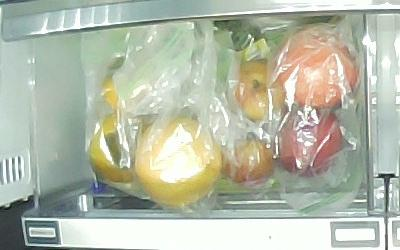apple_vinyl: (277, 24, 358, 110), (275, 110, 342, 177)
grapefruit_vinyl: (136, 116, 221, 208)
persimmon_vinyl: (89, 113, 149, 183)
prune_vinyl: (222, 118, 274, 181), (234, 60, 286, 121)
